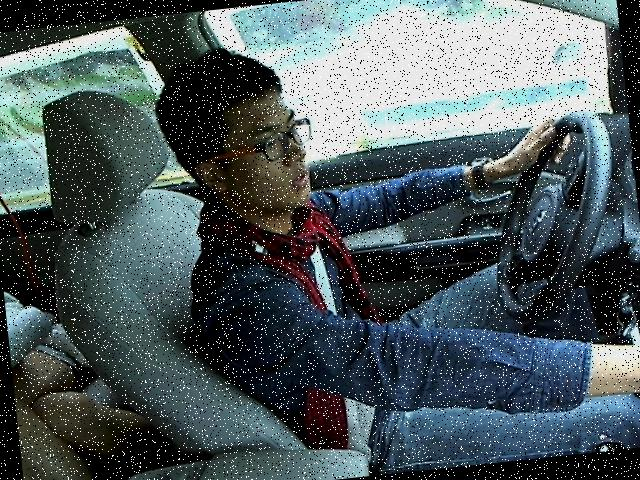c3 - Operating the Radio: (139, 0, 639, 454)
